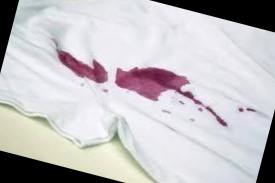wine: (111, 56, 192, 111), (46, 43, 111, 84), (173, 92, 235, 126), (239, 98, 265, 117), (160, 106, 179, 121), (188, 111, 204, 126), (75, 79, 90, 94), (99, 86, 114, 97)
